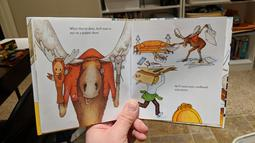text block: (62, 23, 114, 39), (171, 78, 212, 93)
